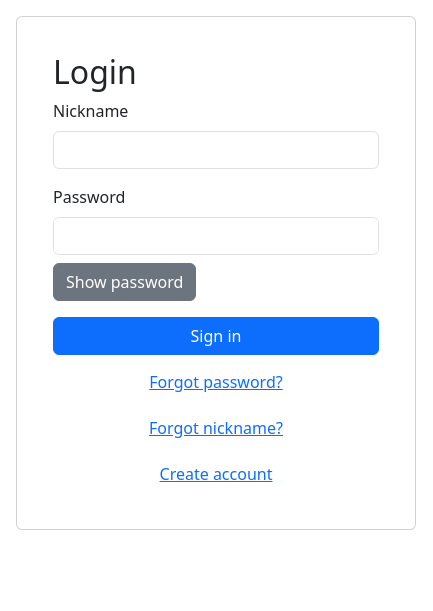
it: Login page › shows the fallback login error when the API does not provide details
The image size is (433, 611).
Type "pedro" into the field labelled "Nickname" at (216, 150), box [53, 131, 379, 169]
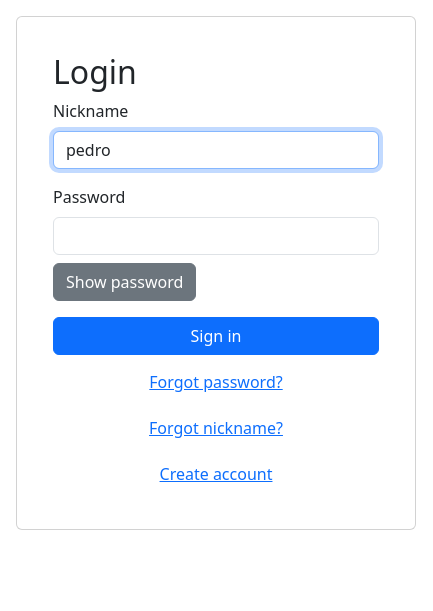
Type "secret" into the password field labelled "Password" at (216, 236), box [53, 217, 379, 255]
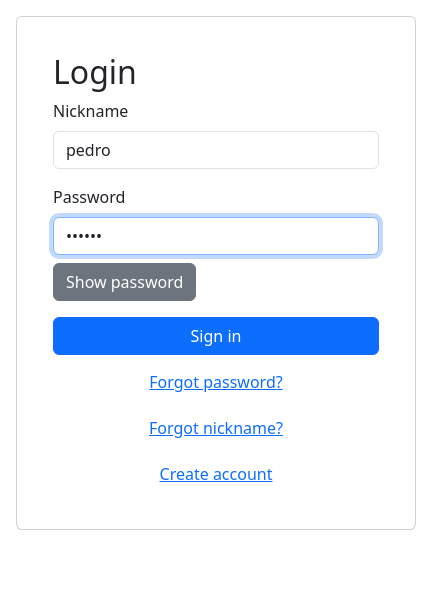
Click the button "Sign in" at (216, 336), box [53, 317, 379, 355]
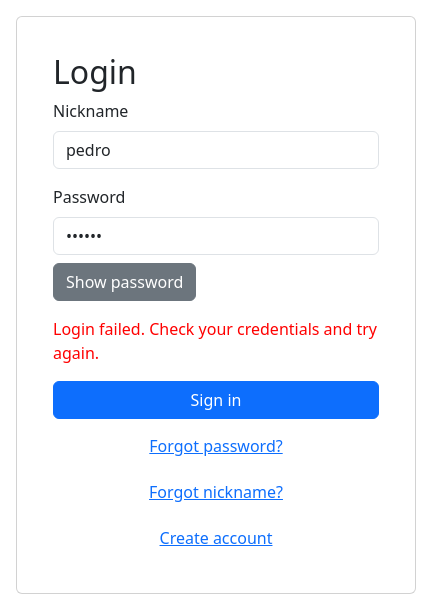
Check: the text "Login failed. Check your credentials and try again." is shown, box [53, 317, 379, 365]
